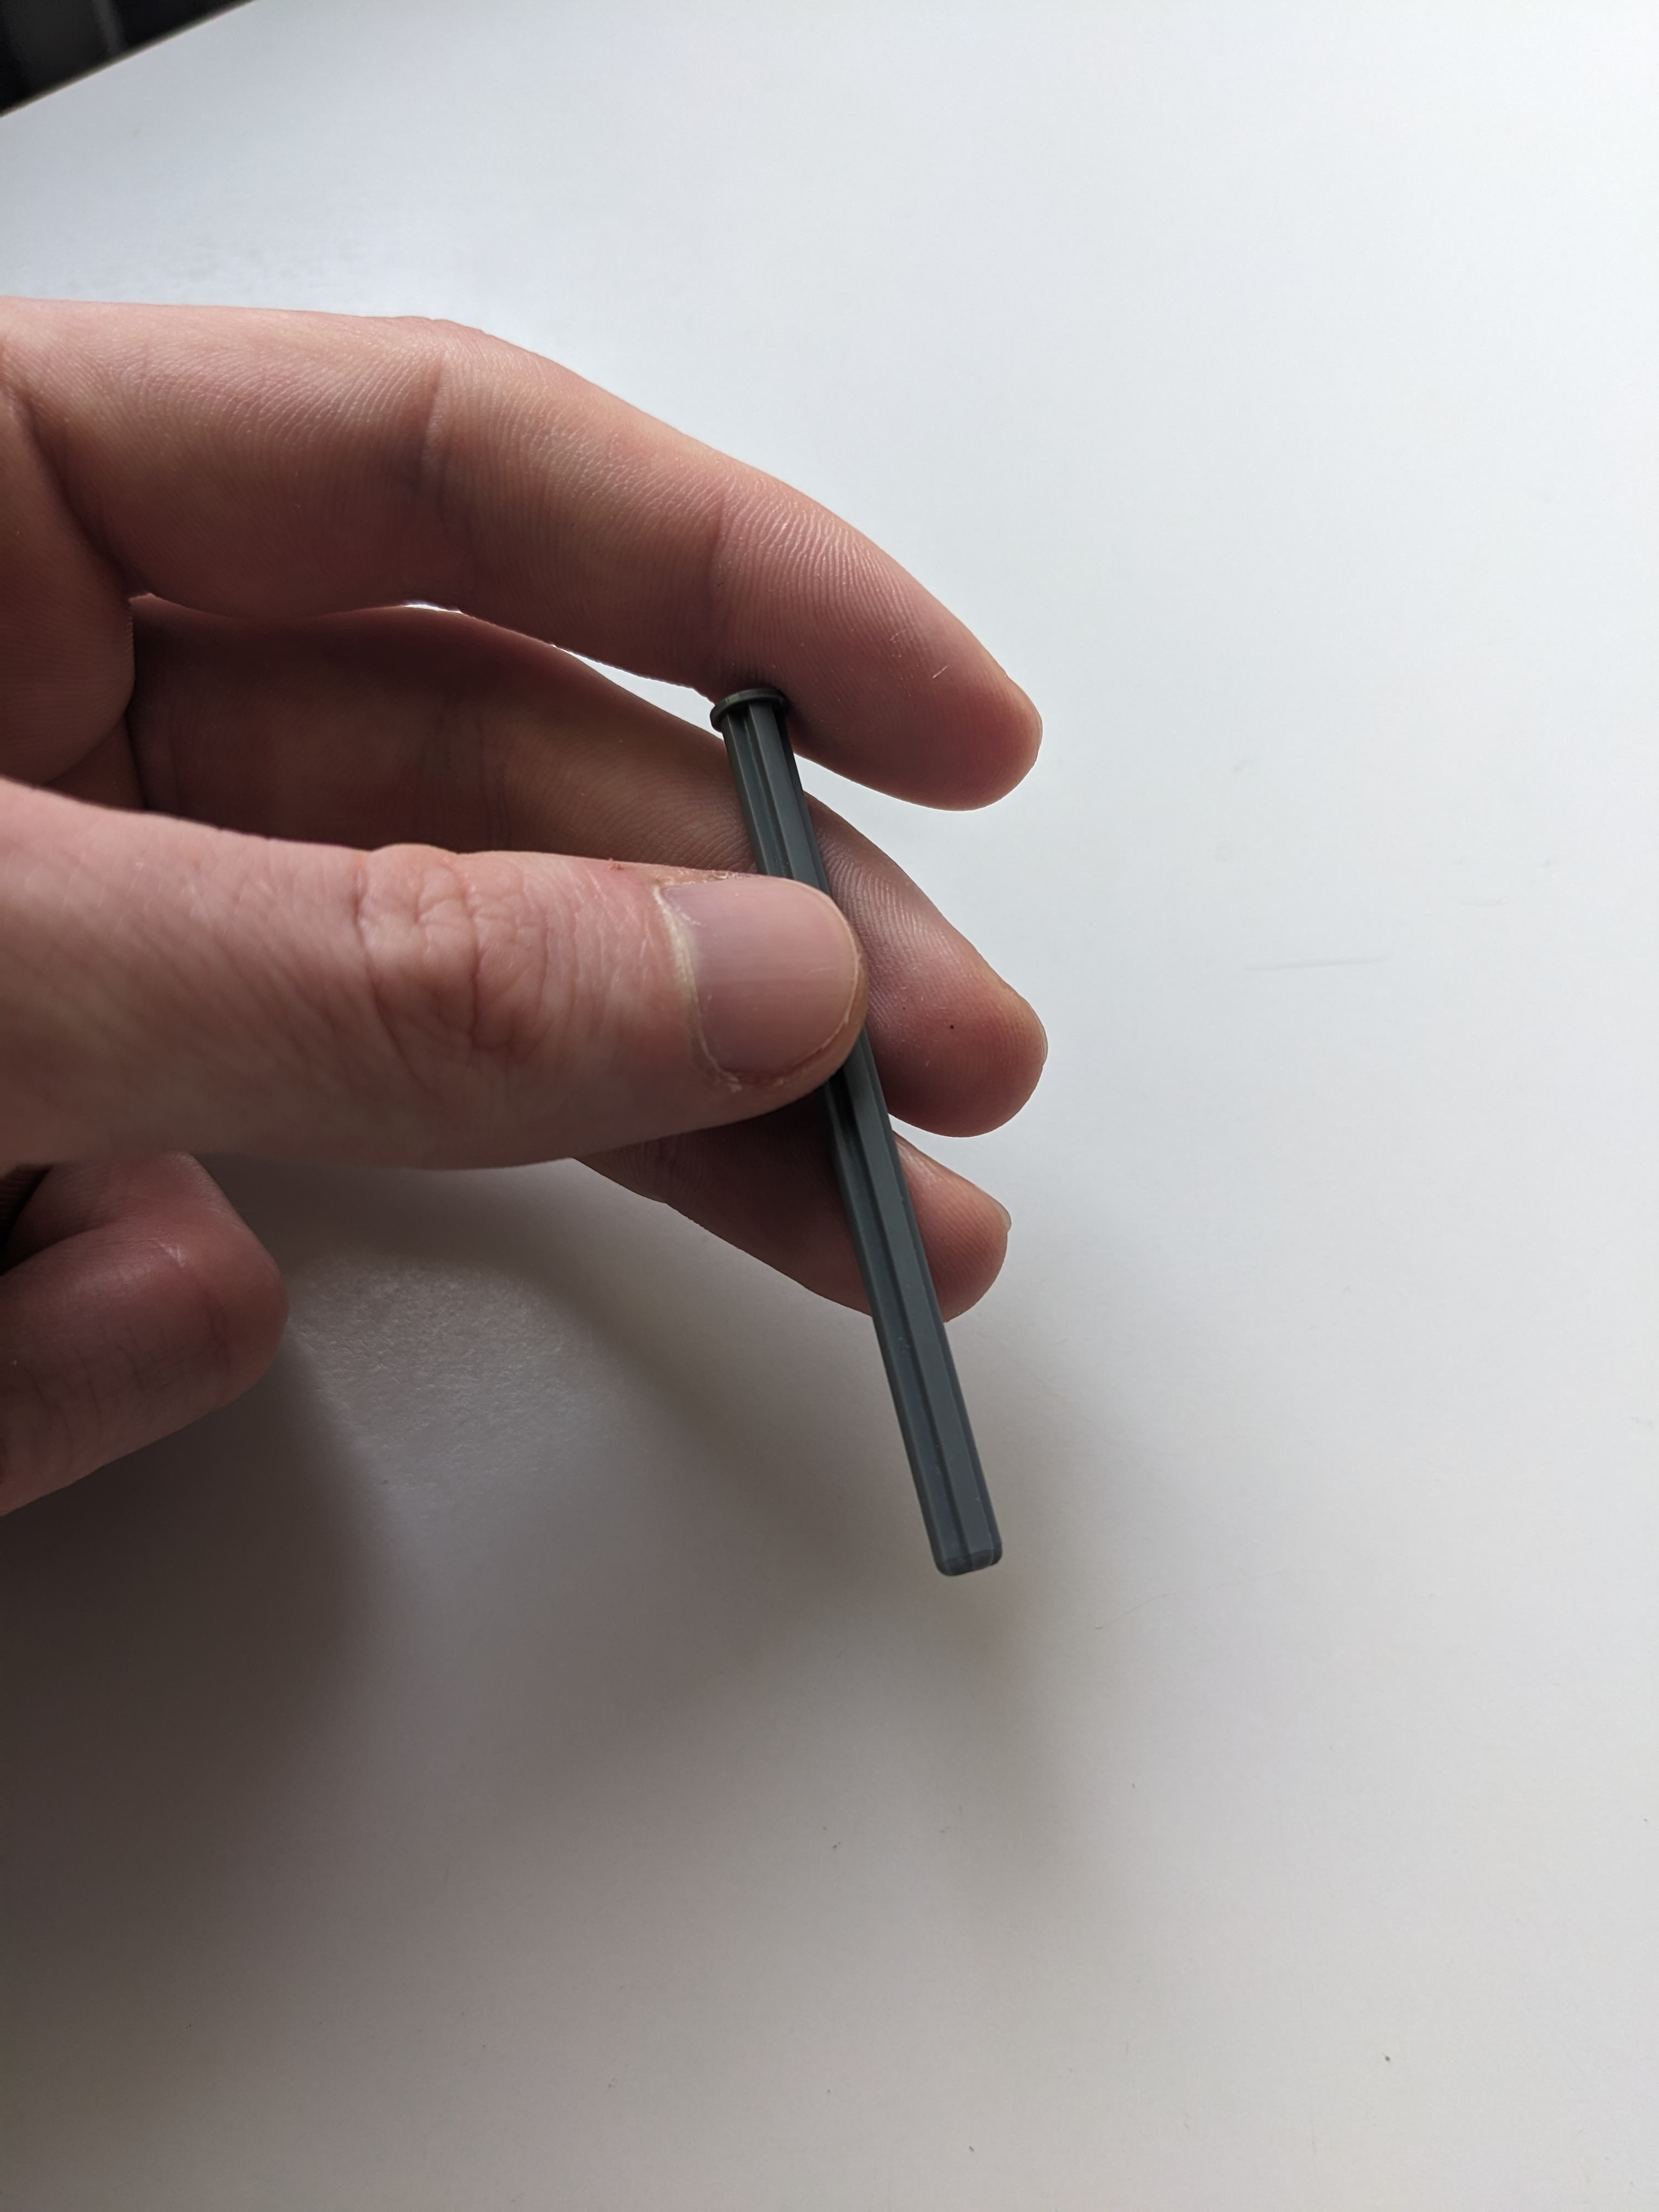Grau_lang: (699, 667, 1032, 1597)
